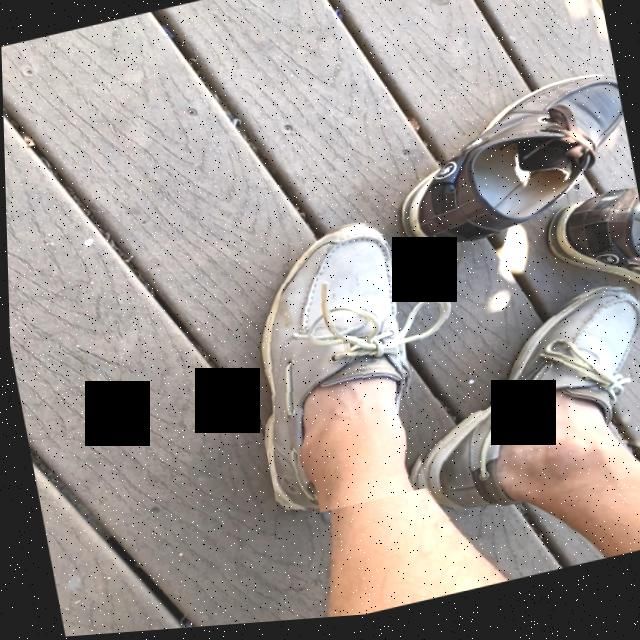shoe: (262, 231, 444, 520), (420, 301, 640, 518)
